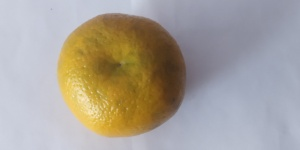BAD: (56, 11, 191, 138)
